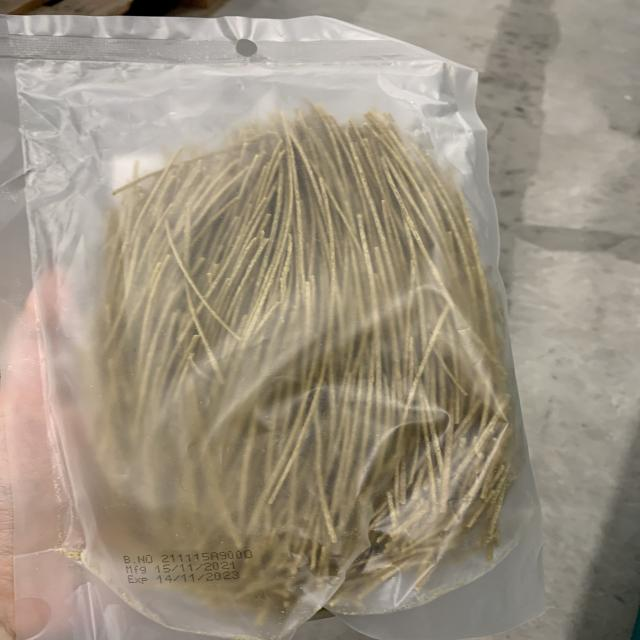object_name: (4, 28, 540, 608)
